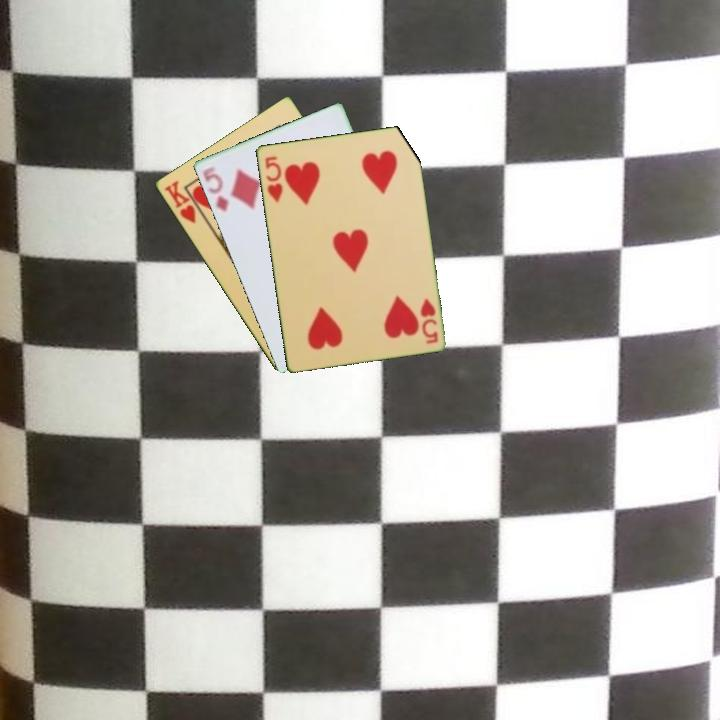5d: (199, 163, 231, 215)
5h: (261, 152, 285, 205), (417, 294, 441, 346)
Kh: (160, 177, 208, 226)
